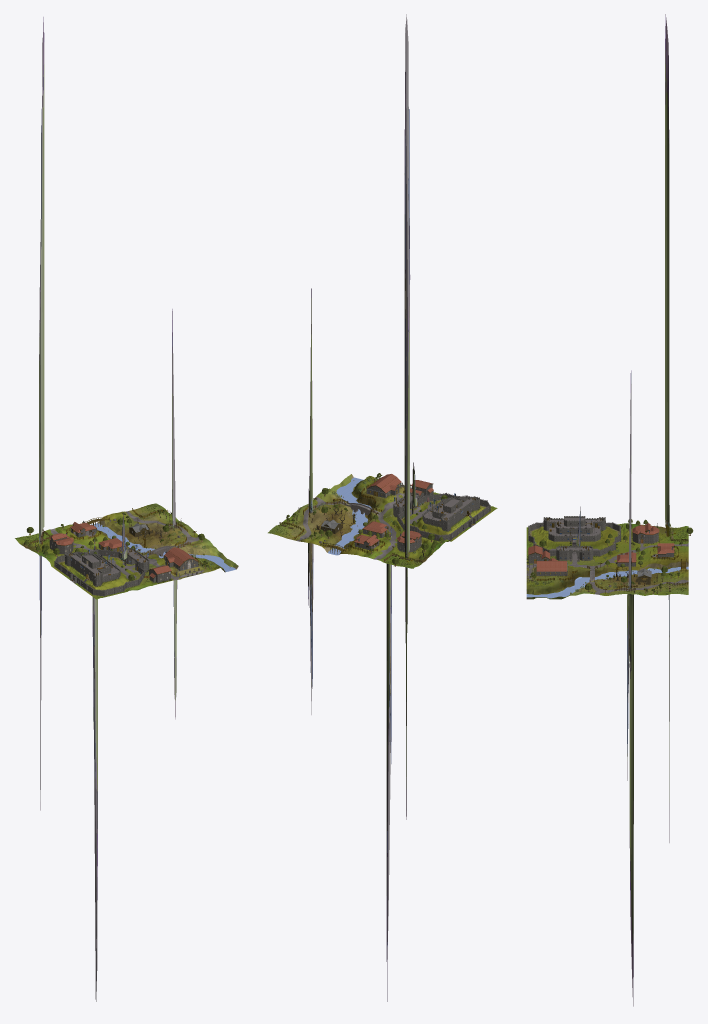
The model's file is Lumbridge.fbx.
The picture shows the model from 3 angles, left to right: view 1: azimuth 30°, elevation 25°; view 2: azimuth 150°, elevation 25°; view 3: azimuth 270°, elevation 25°; orthographic projection. The views are drawn at different scales.
Visible parts, largest first — view 1: region_0_0_12850; view 2: region_0_0_12850; view 3: region_0_0_12850.
Part boxes in pixels (x1,y1,x2,y2): region_0_0_12850: (15,17,238,1001); region_0_0_12850: (268,14,497,1001); region_0_0_12850: (526,14,693,1006).
Size of the model in its own units: 6400 by 42591 by 6591.
Materials: 22 (21 with a texture image).
